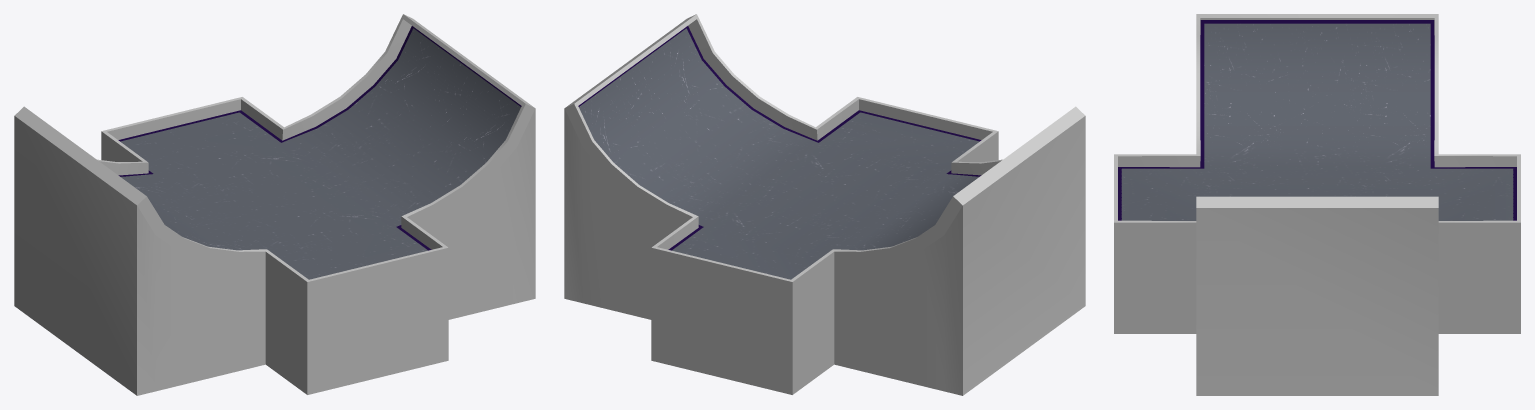
Rendered from Duel_A1_Stage_GasolineBarrelSpawn.fbx.
The picture shows the model from 3 angles, left to right: view 1: azimuth 30°, elevation 25°; view 2: azimuth 150°, elevation 25°; view 3: azimuth 270°, elevation 25°; orthographic projection.
Parts seen in each view (by area): view 1: Platform_Cube__1_.009, Platform_Cube__1_.007, Platform_Cube__1_.008; view 2: Platform_Cube__1_.009, Platform_Cube__1_.007, Platform_Cube__1_.008; view 3: Platform_Cube__1_.009, Platform_Cube__1_.007, Platform_Cube__1_.008.
Boxes of the visible parts, bbox=[...] form: Platform_Cube__1_.009: bbox=[14, 28, 535, 395]; Platform_Cube__1_.007: bbox=[14, 14, 535, 293]; Platform_Cube__1_.008: bbox=[118, 26, 521, 250]; Platform_Cube__1_.009: bbox=[564, 28, 1085, 395]; Platform_Cube__1_.007: bbox=[564, 14, 1085, 293]; Platform_Cube__1_.008: bbox=[578, 26, 981, 250]; Platform_Cube__1_.009: bbox=[1114, 23, 1520, 395]; Platform_Cube__1_.007: bbox=[1114, 14, 1520, 233]; Platform_Cube__1_.008: bbox=[1118, 20, 1516, 220].
Size of the model in its own units: 5624 by 2662 by 5041.
